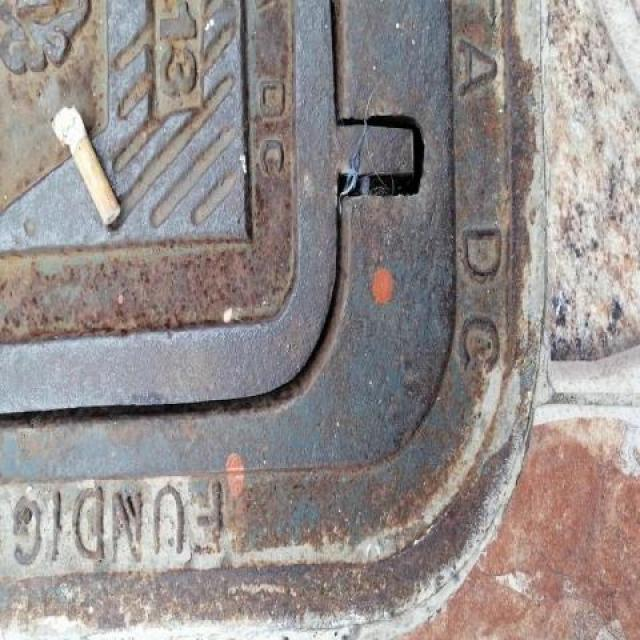non-organic waste: (46, 97, 126, 231)
